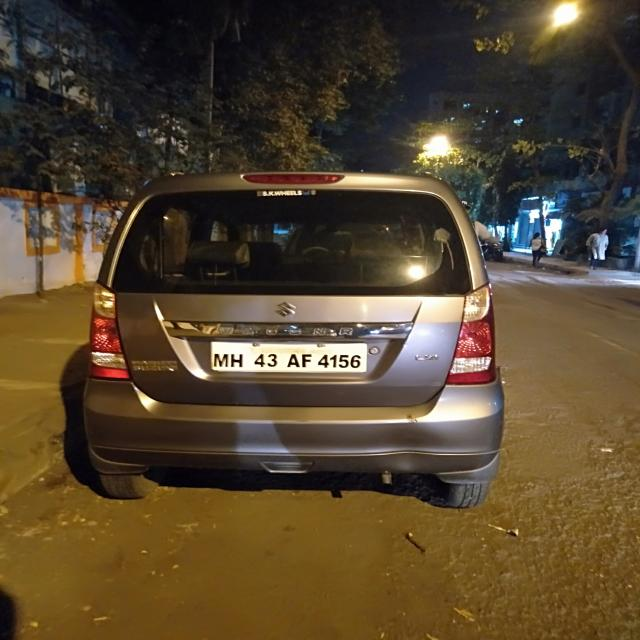Number-Plate: (213, 343, 365, 375)
